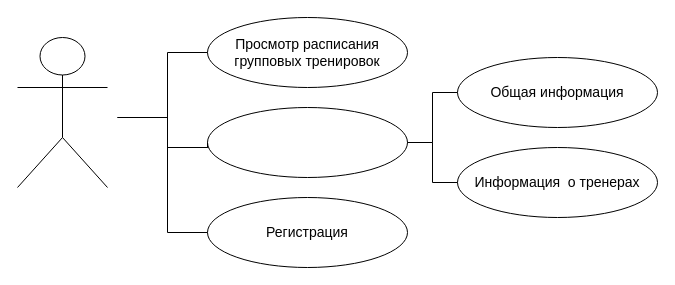
Some shapes in this 675 by 285 pixel diagram are drawn without their labels. Each missing label, with the centre of its shape:
Гость: (x=62, y=112)
Просмотр информации о фитнес-клубе: (x=307, y=142)
